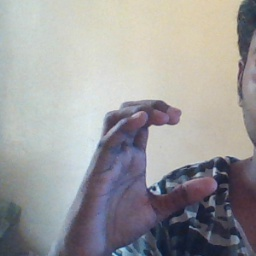C: (92, 89, 219, 222)
